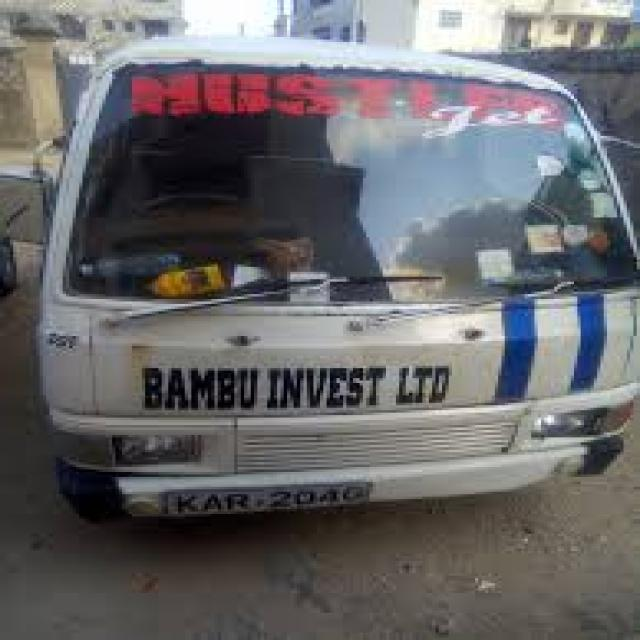matatu: (29, 19, 640, 573)
